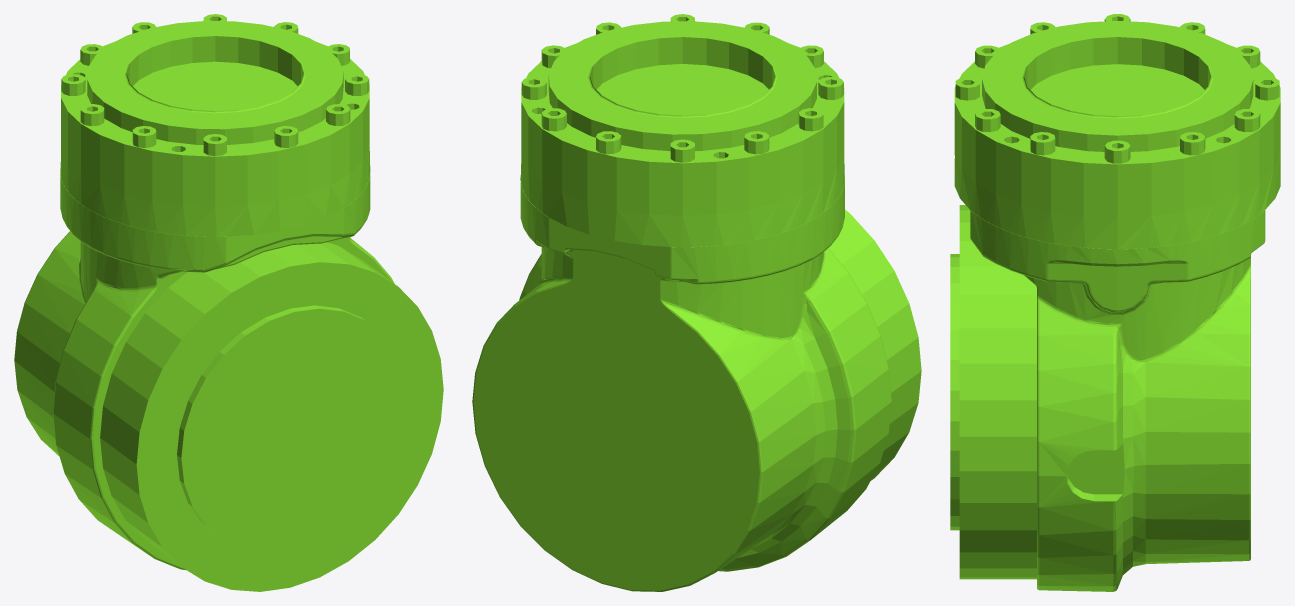
3 renders of one model, left to right at view 1: azimuth 30°, elevation 25°; view 2: azimuth 150°, elevation 25°; view 3: azimuth 270°, elevation 25°, orthographic. The views are drawn at different scales.
Visible parts, largest first — view 1: node; view 2: node; view 3: node.
Boxes of the visible parts, x1=… form: node: x1=14, y1=14, x2=443, y2=591; node: x1=472, y1=14, x2=921, y2=591; node: x1=950, y1=14, x2=1280, y2=591.
Size of the model in its own units: 85.19 by 117 by 70.56.
